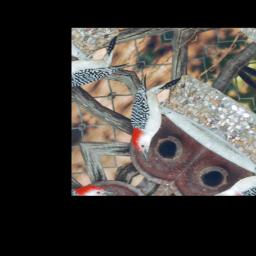Woodpecker: (88, 55, 213, 163)
